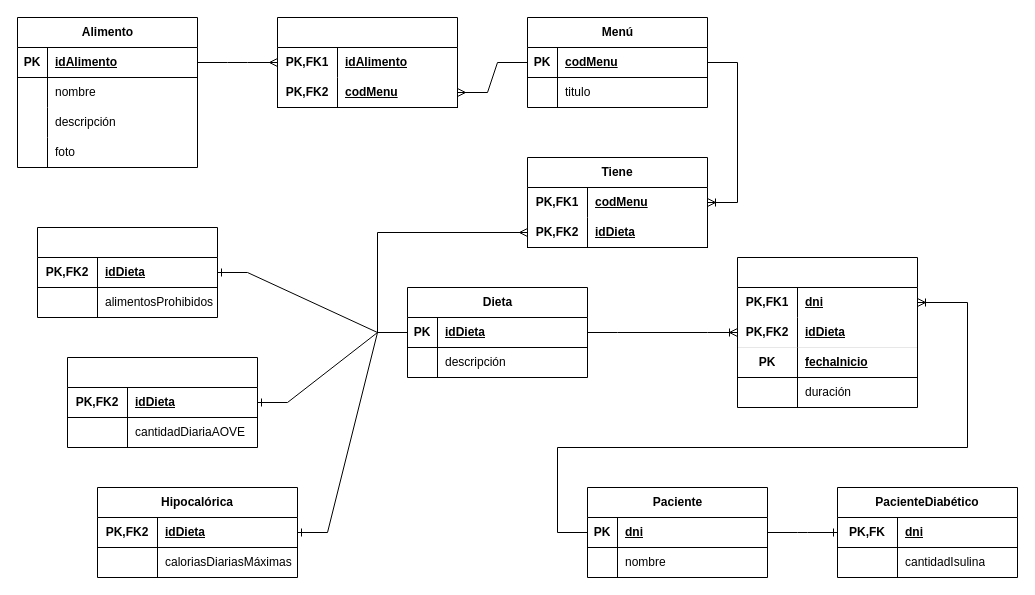
This 1035x595 diagram has some shape labels left out. The box of each missing label's shape, as (x1, y1, x2, y2) in pixels:
Realiza: (736, 256, 918, 408)
Table: (66, 356, 258, 448)
Utiliza: (276, 16, 458, 108)
Vegetariana: (36, 226, 218, 318)
